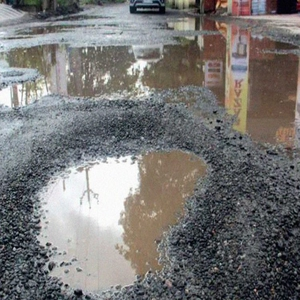pothole: (26, 133, 217, 300)
